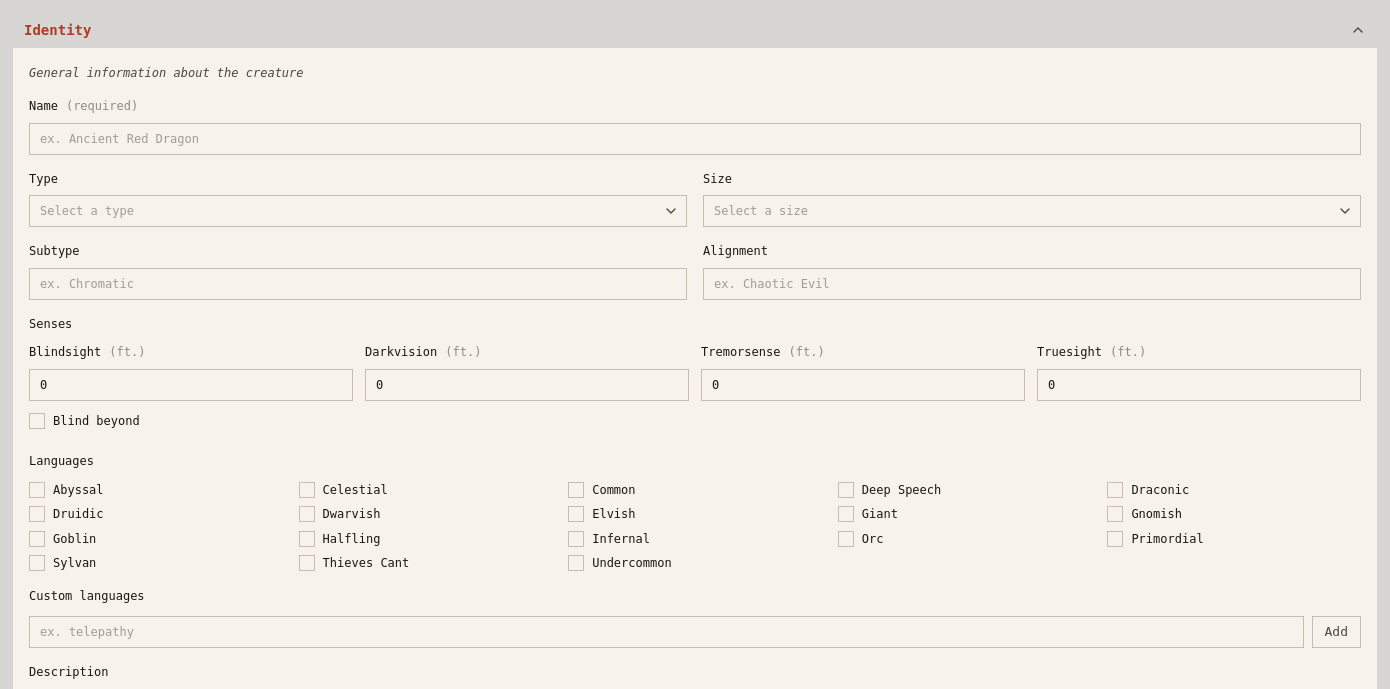
IdentityForm — custom languages › adds a custom language via the Add button and clears the input
Type "telepathy 120 ft." into the field labelled "Custom languages" at (666,632), box [29,616,1304,648]
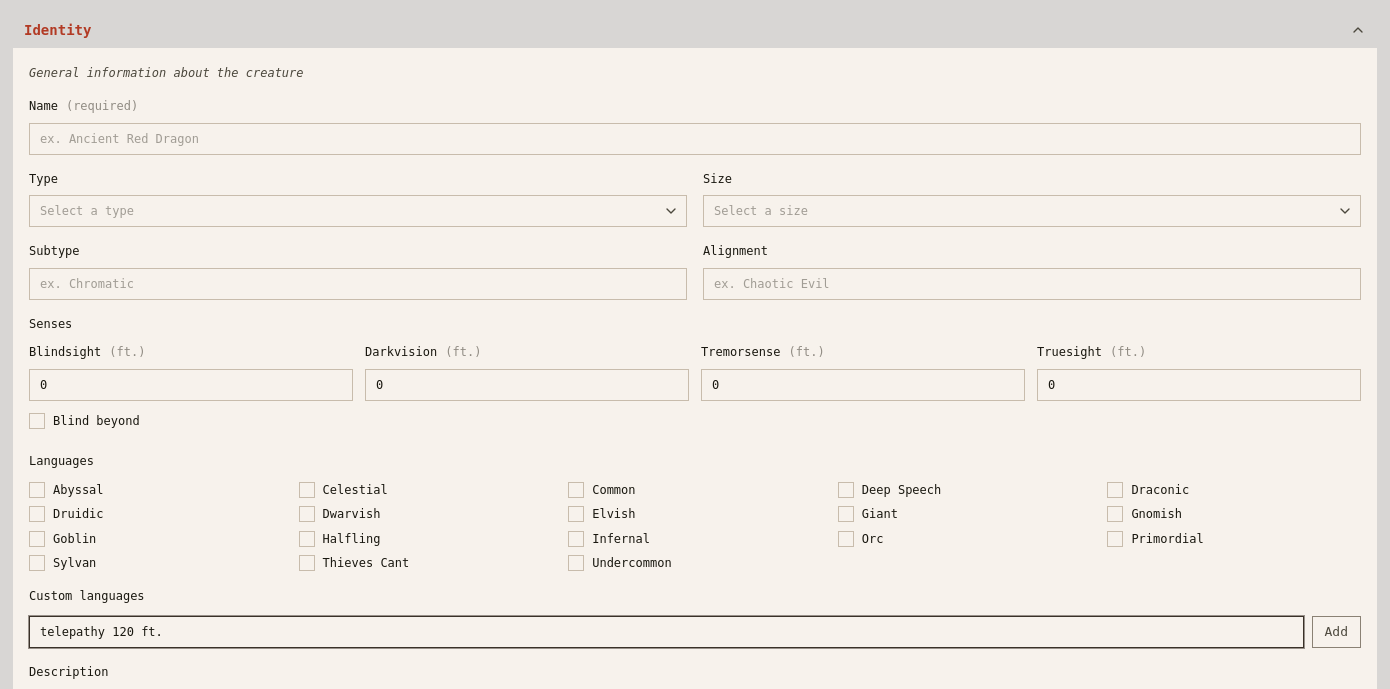
Click the button "Add" at (1336,632), box [1312,616,1361,648]
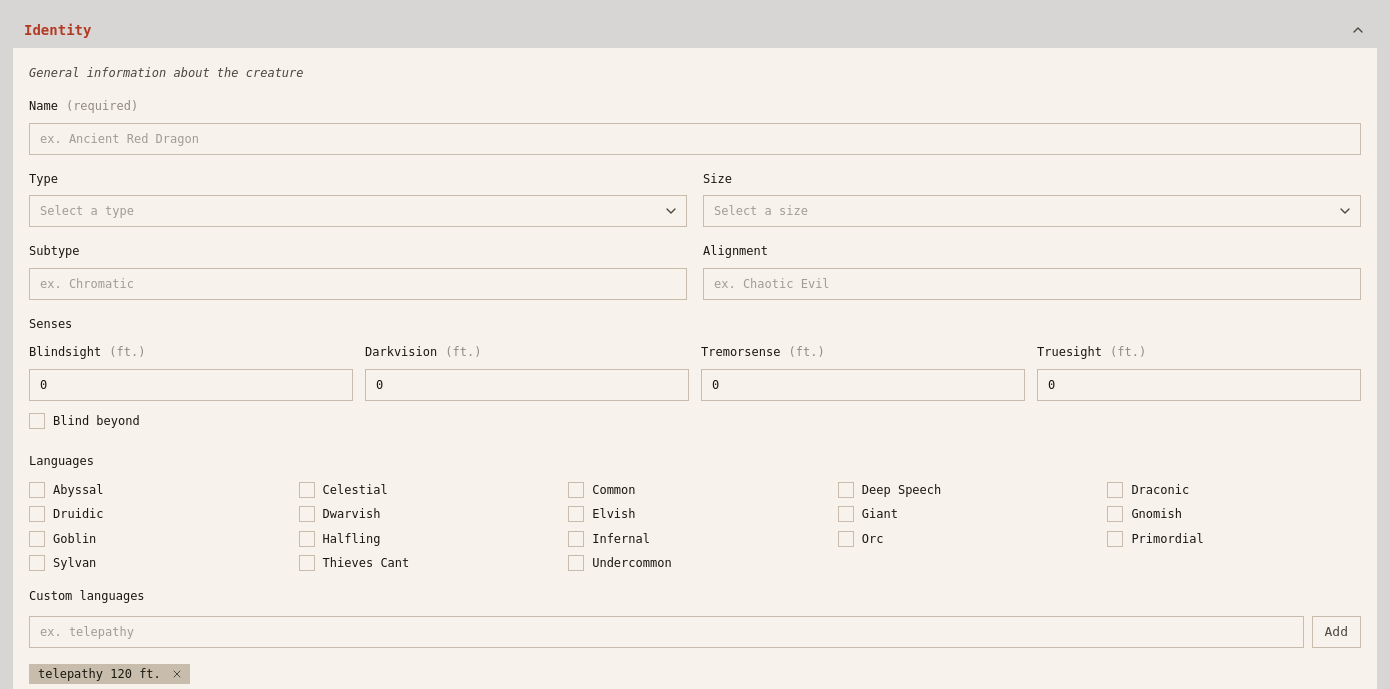
expect the field labelled "Custom languages" is empty: met, box [29,616,1304,648]
expect the button named "Remove telepathy 120 ft." is shown: met, box [165,664,189,684]
